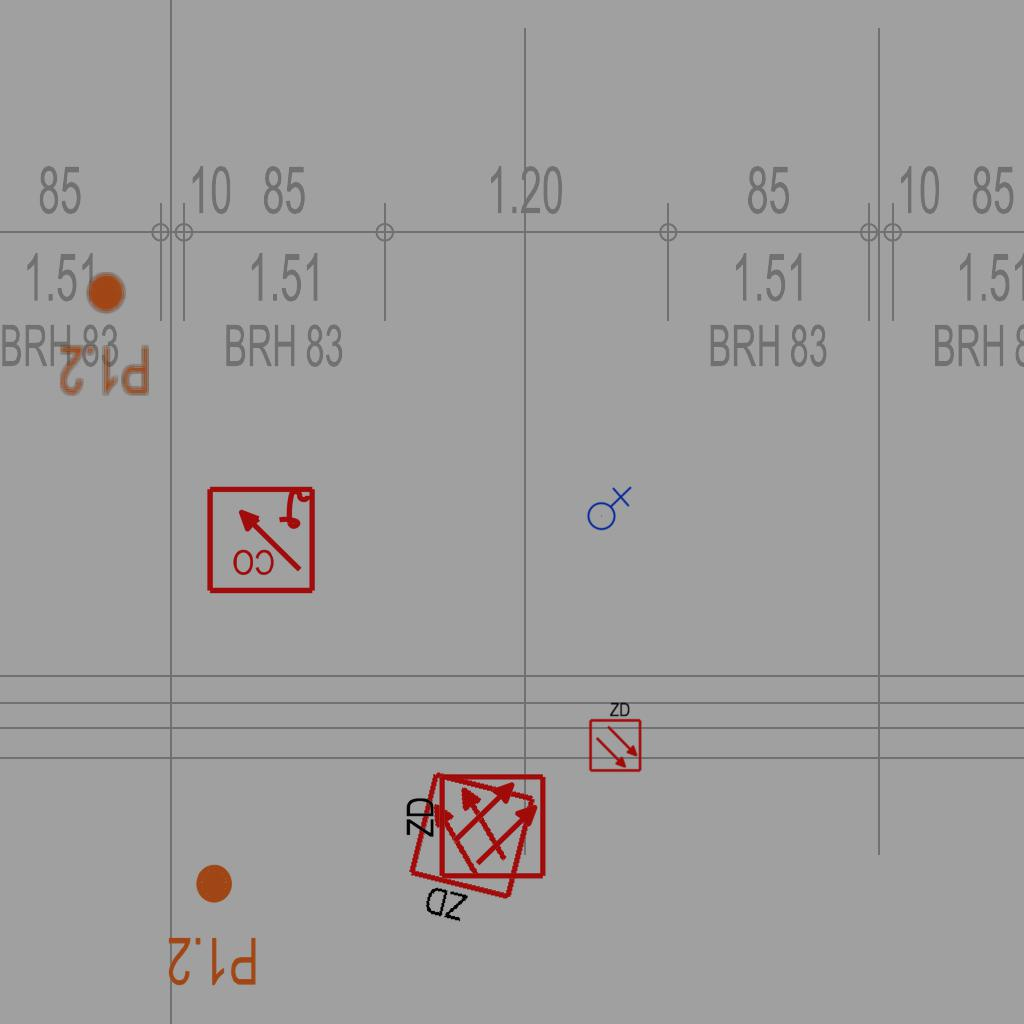Downlight_LED_Einbauleuchten_Flur: (58, 270, 151, 398), (166, 861, 259, 989)
Elektroanschluss_allgemein_230V_Geraeteanschlussdose_230V: (583, 484, 632, 531)
ROA_Rauchmelder_optisch_mit_Signalgeber_(Sockelsirene): (204, 482, 317, 595)
ZD_Melder_in_Zwischendecke_mit_Revisionsoeffnung_mind_40_x_40_cm: (395, 768, 543, 941), (399, 771, 548, 885), (586, 699, 643, 773)
